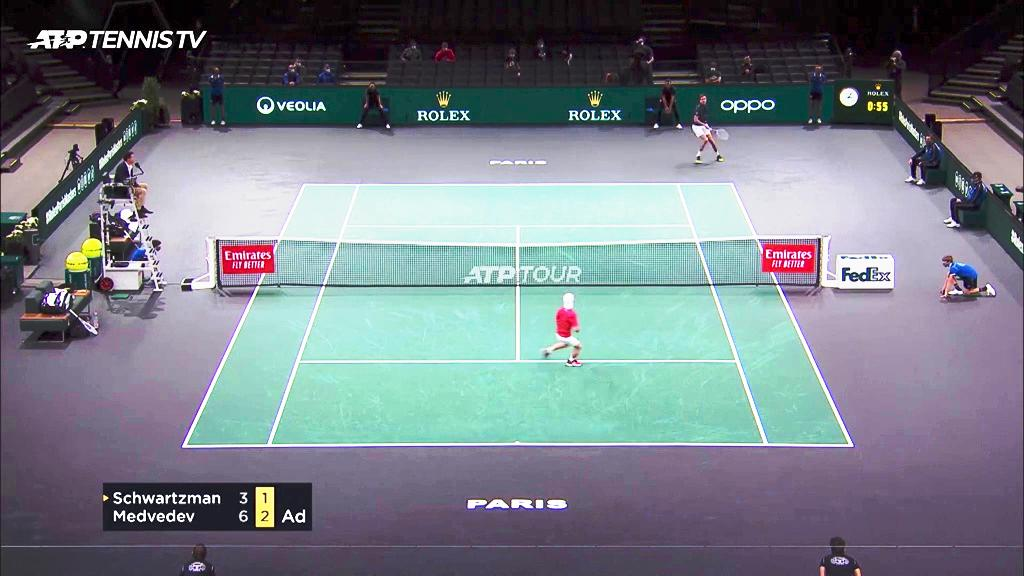tennis-court: (181, 183, 854, 448)
